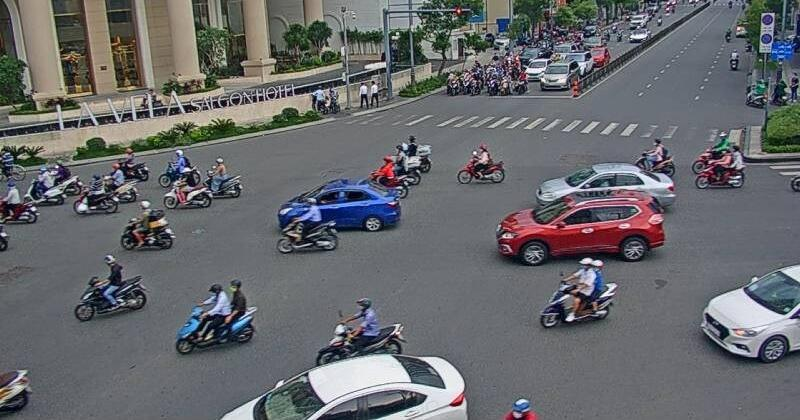xe hoi: (221, 355, 466, 420), (496, 190, 665, 266), (700, 263, 800, 361), (277, 178, 401, 233), (535, 162, 675, 205)
xe may: (174, 278, 258, 355), (537, 257, 617, 330), (316, 297, 408, 357), (74, 255, 147, 322), (119, 199, 175, 248), (455, 144, 506, 186), (162, 167, 213, 209), (22, 163, 64, 208), (73, 175, 118, 216), (203, 156, 242, 196)
